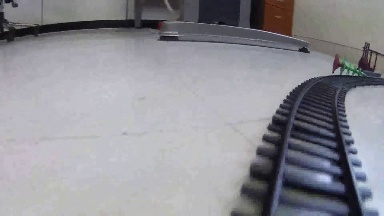tree: (327, 54, 374, 88)
